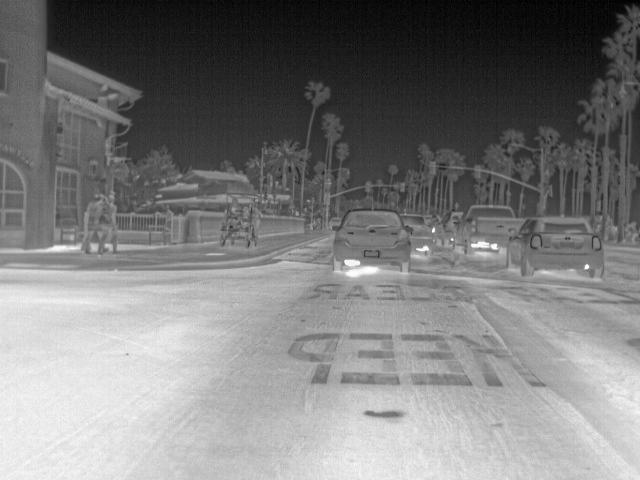car: (507, 215, 607, 281), (329, 207, 416, 272), (464, 201, 522, 252), (395, 212, 435, 248), (444, 206, 471, 237)
person: (79, 191, 109, 251), (97, 191, 120, 252), (218, 202, 242, 240), (240, 202, 263, 236)
